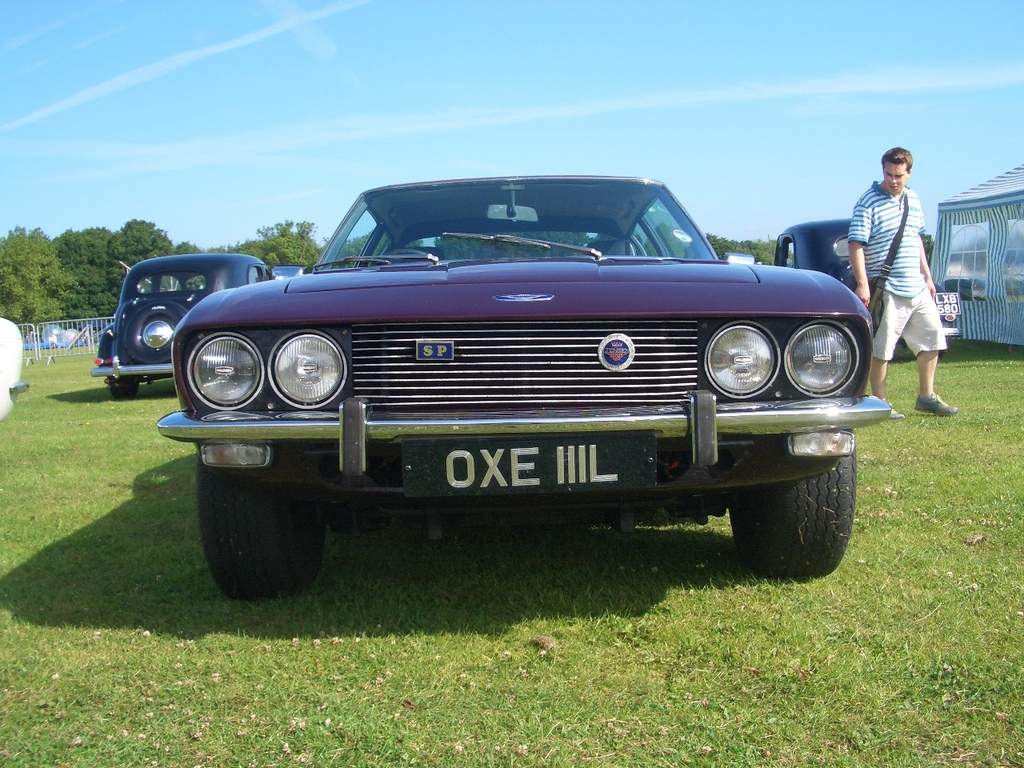Car: (166, 164, 875, 595), (91, 249, 263, 394), (771, 226, 943, 345)
